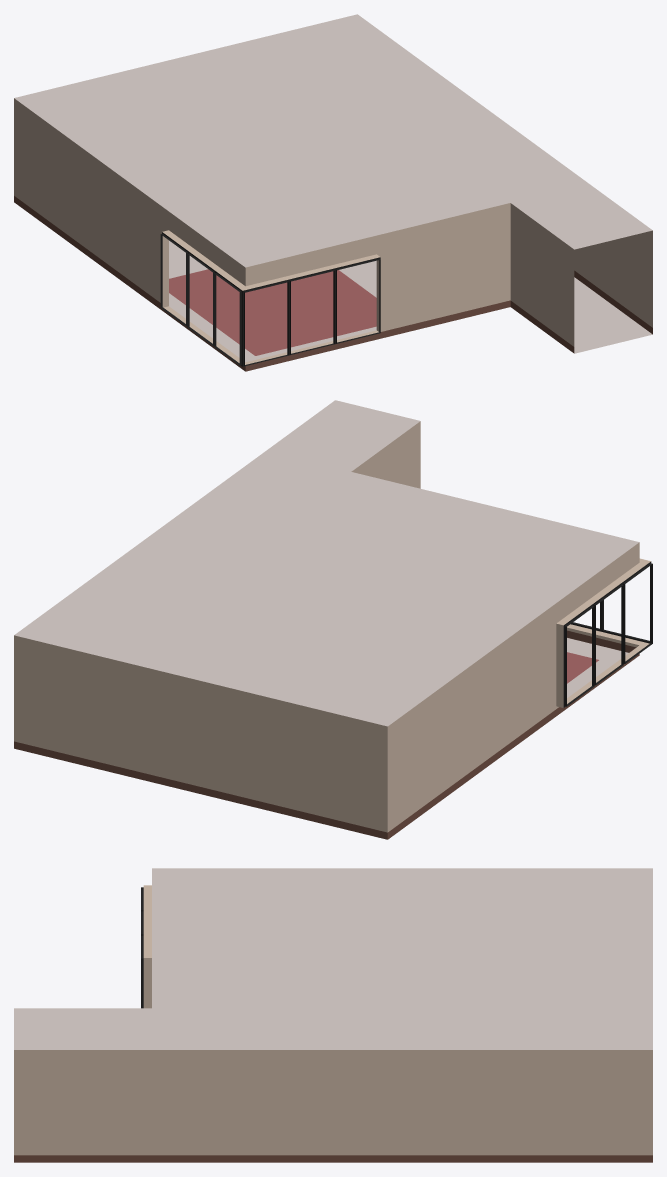
The model's file is Skyscraper Apartment.fbx.
3 views of the same model, one above another, from view 1: azimuth 30°, elevation 25°; view 2: azimuth 150°, elevation 25°; view 3: azimuth 270°, elevation 25° (orthographic). The views are drawn at different scales.
Parts seen in each view (by area): view 1: Skyscraper Apartment; view 2: Skyscraper Apartment; view 3: Skyscraper Apartment.
Part boxes in pixels (x1,y1,x2,y2): Skyscraper Apartment: [14, 14, 652, 371]; Skyscraper Apartment: [14, 400, 652, 839]; Skyscraper Apartment: [14, 868, 652, 1162].
Size of the model in its own units: 1551 by 438 by 2250.
